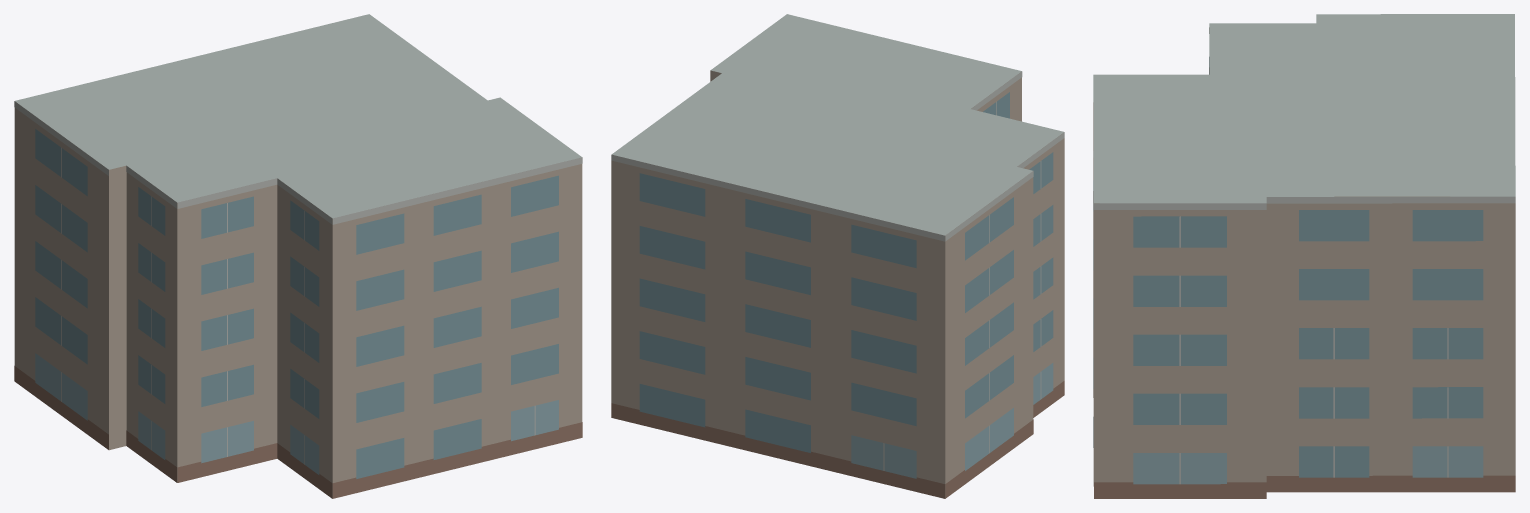
Rendered from survey-upis-32758366.glb.
The picture shows the model from 3 angles, left to right: view 1: azimuth 30°, elevation 25°; view 2: azimuth 150°, elevation 25°; view 3: azimuth 270°, elevation 25°; orthographic projection. The views are drawn at different scales.
Visible parts, largest first — view 1: survey-upis-32758366.tmp; view 2: survey-upis-32758366.tmp; view 3: survey-upis-32758366.tmp.
Part boxes in pixels (x1,y1,x2,y2): survey-upis-32758366.tmp: (14, 14, 582, 498); survey-upis-32758366.tmp: (611, 14, 1064, 498); survey-upis-32758366.tmp: (1093, 14, 1515, 498).
Bounding box in the file's own units: 14.72 × 10.7 × 13.87.
